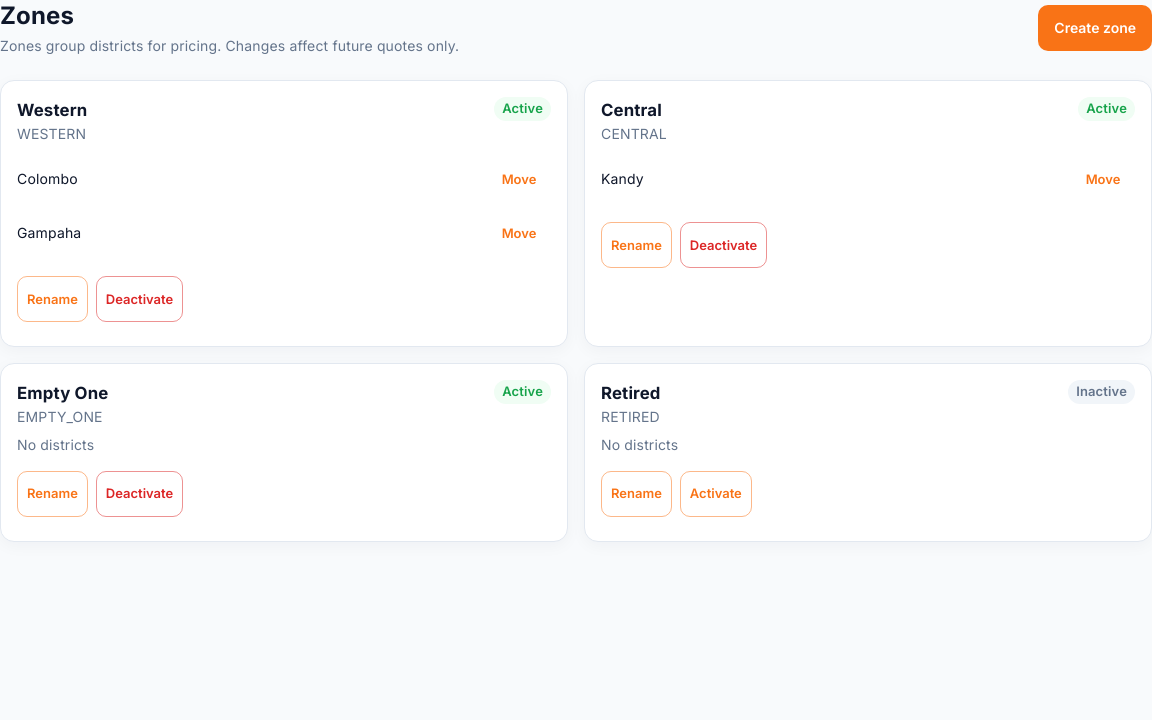
Test case: TST-040 Member #5 admin zones page (FR-PRC-006) › deactivate: ZONE_IN_USE shows a clear message
Click the button with aria-label "Deactivate Western": (140, 299) 96,276 -> 183,322
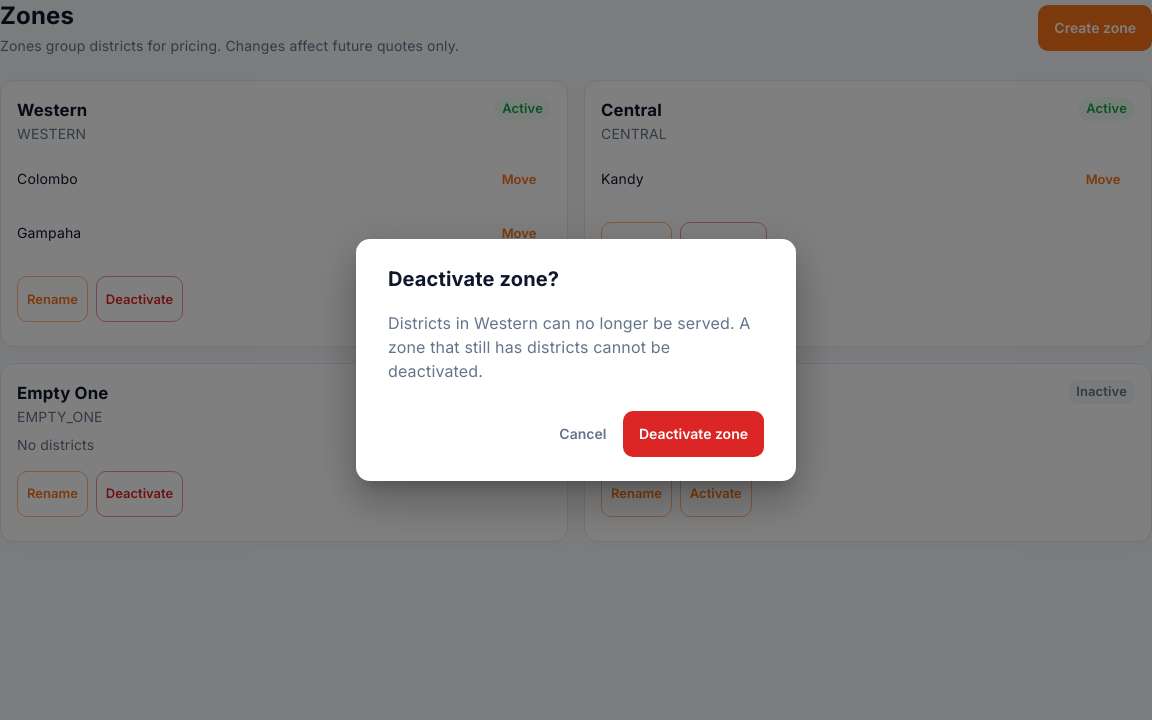
Click the button "Deactivate zone": (693, 434) 623,411 -> 764,457
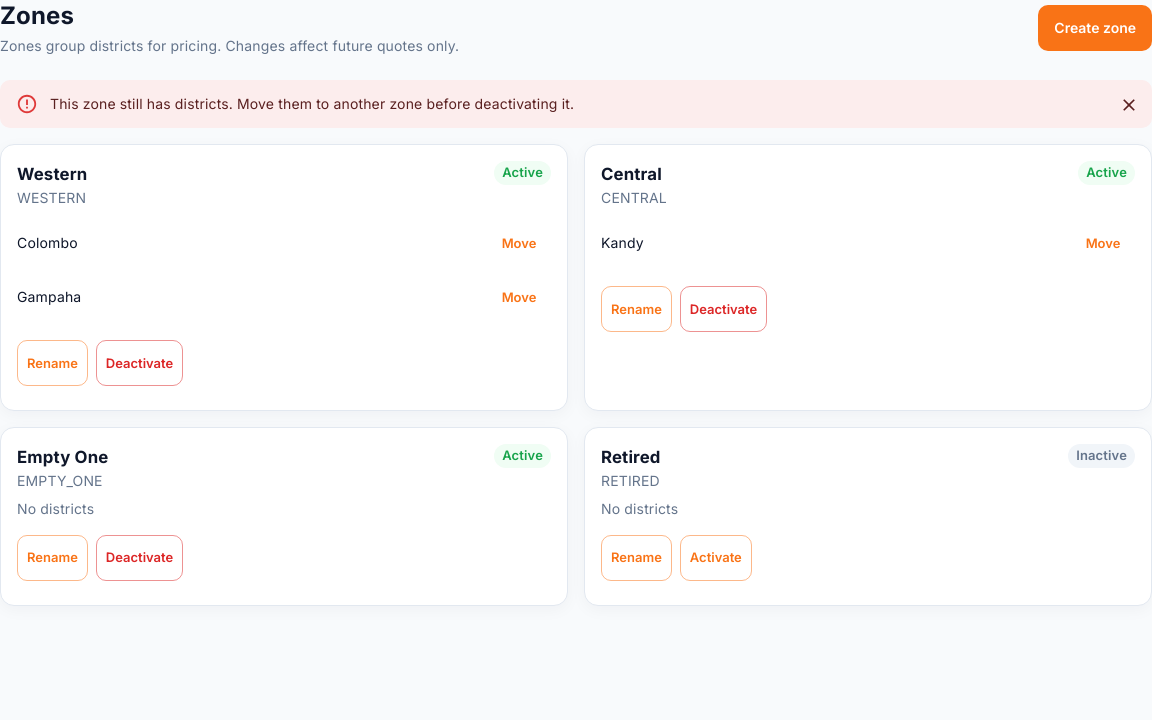
Now the text "still has districts. Move them to another zone" is shown, box 50,95 -> 574,112
